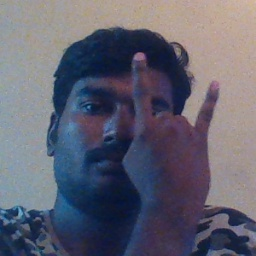V: (116, 51, 226, 207)
